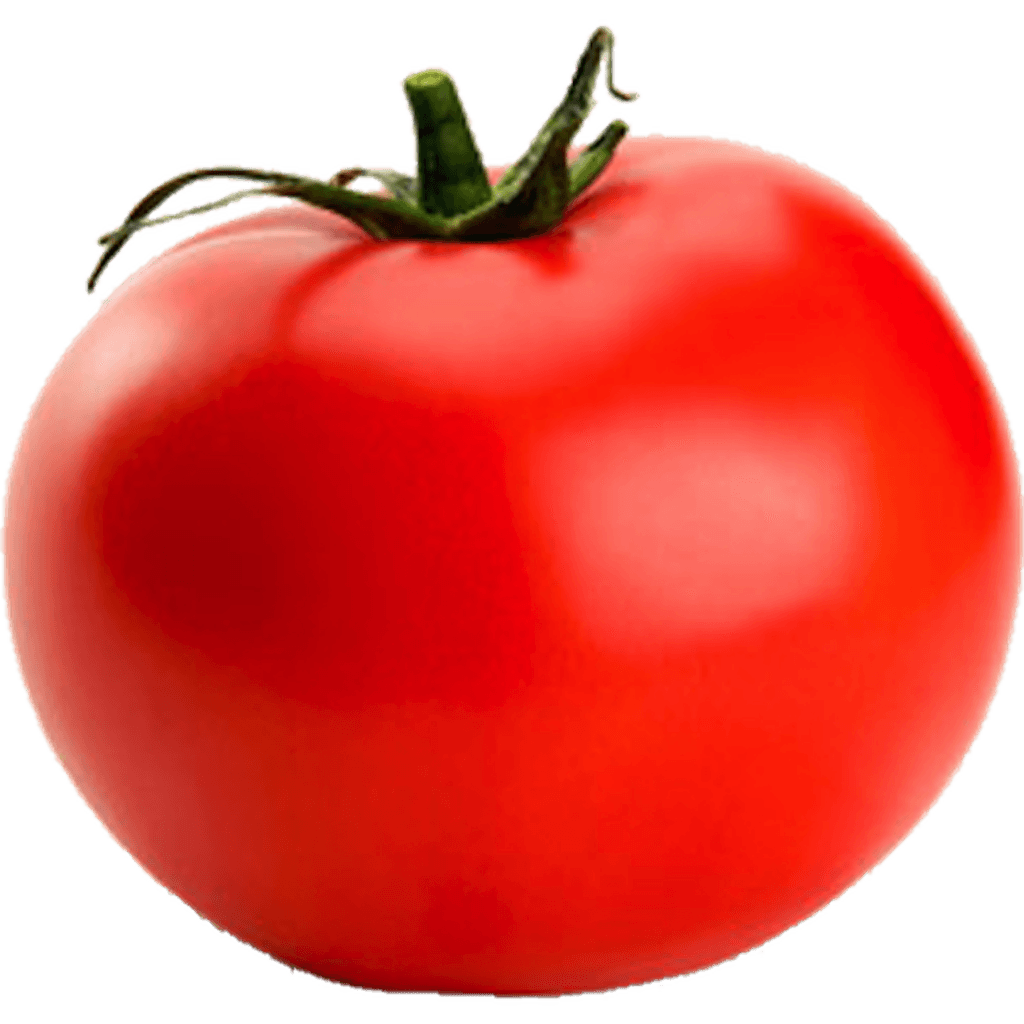tomato: (2, 74, 1024, 992)
